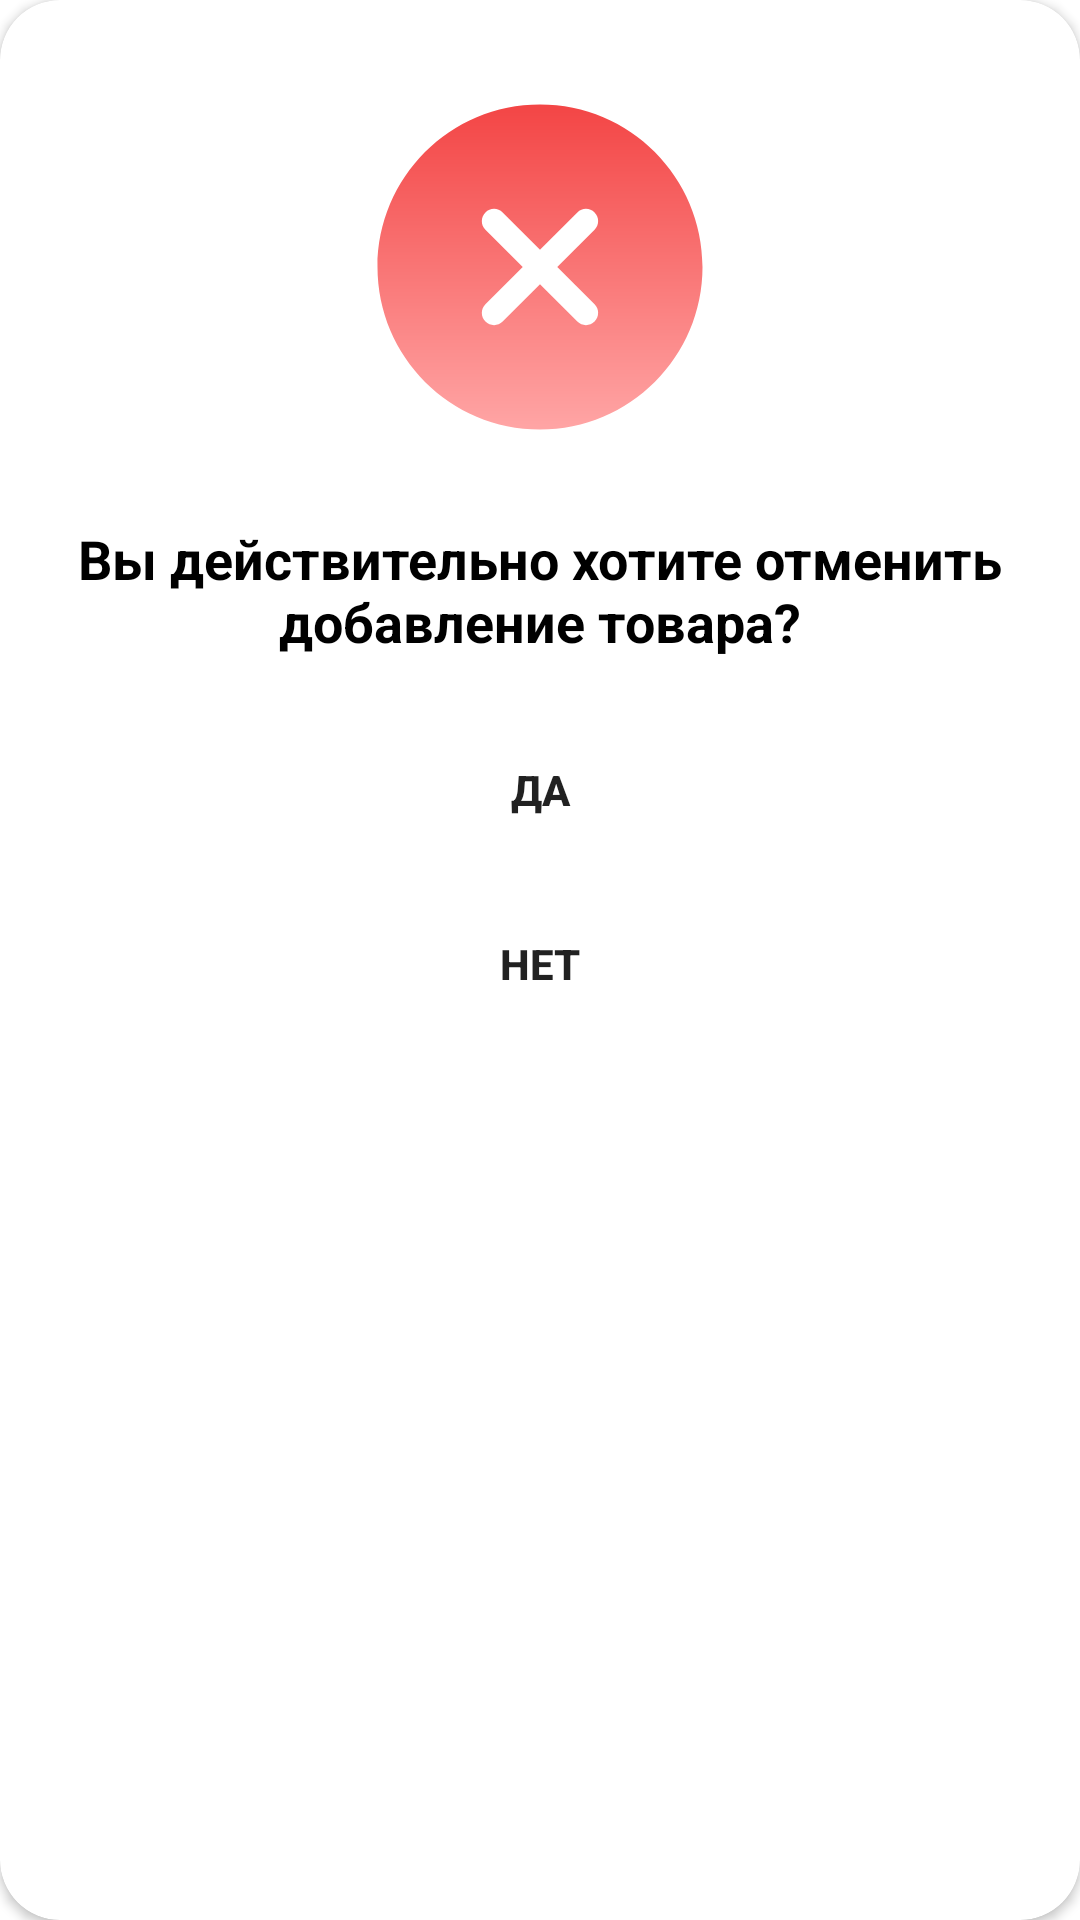

Icon click points for this 1080 × 1920 phone screenshot, format point (x, y):
remove circle: point (540, 267)
